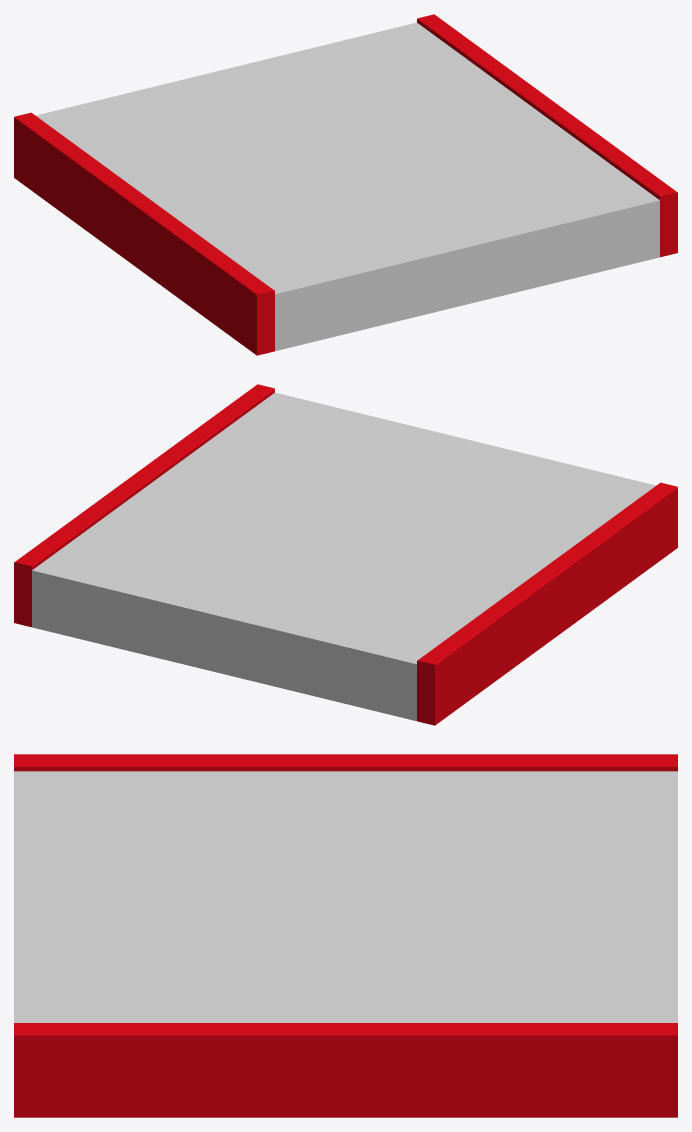
Rendered from Chodnik.fbx.
The picture shows the model from 3 angles, top to bottom: view 1: azimuth 30°, elevation 25°; view 2: azimuth 150°, elevation 25°; view 3: azimuth 270°, elevation 25°; orthographic projection. The views are drawn at different scales.
Visible parts, largest first — view 1: Cube; view 2: Cube; view 3: Cube.
Boxes of the visible parts, x1,y1,x2,y2 form: Cube: (14, 14, 677, 355); Cube: (14, 384, 677, 725); Cube: (14, 754, 677, 1117).
Size of the model in its own units: 400 by 55.41 by 400.
